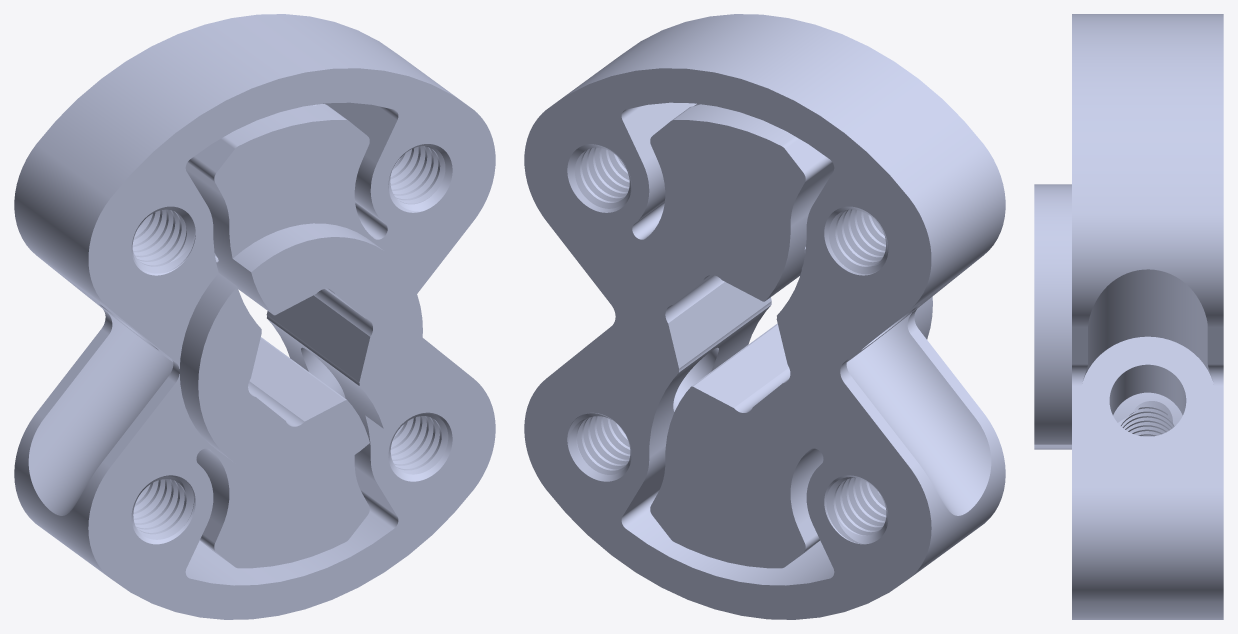
Rendered from Imported1_1.obj.
3 renders of one model, left to right at view 1: azimuth 30°, elevation 25°; view 2: azimuth 150°, elevation 25°; view 3: azimuth 270°, elevation 25°, orthographic. The views are drawn at different scales.
Parts seen in each view (by area): view 1: mesh2296, mesh2100, mesh1942, mesh1965, mesh1927, mesh1951, mesh1943, mesh1880, mesh1946, mesh1921, mesh1963, mesh2207 (+19 smaller); view 2: mesh2210, mesh1942, mesh1951, mesh1943, mesh1880, mesh1946, mesh1921, mesh1963, mesh2266, mesh2206, mesh1918, mesh2317 (+13 smaller); view 3: mesh1942, mesh1932, mesh1935, mesh1929, mesh1941, mesh1938, mesh1944, mesh1945, mesh1940, mesh1939, mesh1930, mesh1931 (+6 smaller).
Boxes of the visible parts, left/top/right/bottom form: mesh2296: left=88, top=68, right=495, bottom=368; mesh2100: left=88, top=338, right=495, bottom=619; mesh1942: left=36, top=14, right=467, bottom=198; mesh1965: left=198, top=287, right=369, bottom=478; mesh1927: left=251, top=237, right=422, bottom=428; mesh1951: left=28, top=313, right=173, bottom=515; mesh1943: left=14, top=144, right=109, bottom=308; mesh1880: left=185, top=511, right=393, bottom=585; mesh1946: left=14, top=413, right=110, bottom=576; mesh1921: left=266, top=295, right=370, bottom=381; mesh1963: left=249, top=338, right=344, bottom=421; mesh2207: left=133, top=475, right=193, bottom=539; mesh2210: left=524, top=68, right=931, bottom=619; mesh1942: left=552, top=14, right=983, bottom=198; mesh1951: left=846, top=313, right=991, bottom=515; mesh1943: left=910, top=144, right=1005, bottom=308; mesh1880: left=626, top=511, right=834, bottom=585; mesh1946: left=909, top=413, right=1005, bottom=576; mesh1921: left=668, top=282, right=771, bottom=368; mesh1963: left=693, top=324, right=788, bottom=407; mesh2266: left=829, top=209, right=888, bottom=274; mesh2206: left=826, top=477, right=886, bottom=544; mesh1918: left=649, top=305, right=770, bottom=453; mesh2317: left=575, top=144, right=630, bottom=208; mesh1942: left=1072, top=14, right=1223, bottom=213; mesh1932: left=1072, top=336, right=1223, bottom=487; mesh1935: left=1072, top=488, right=1223, bottom=555; mesh1929: left=1034, top=184, right=1071, bottom=444; mesh1941: left=1072, top=213, right=1223, bottom=281; mesh1938: left=1083, top=269, right=1212, bottom=380; mesh1944: left=1072, top=556, right=1223, bottom=601; mesh1945: left=1072, top=602, right=1223, bottom=619; mesh1940: left=1183, top=281, right=1223, bottom=326; mesh1939: left=1072, top=281, right=1112, bottom=326; mesh1930: left=1109, top=364, right=1147, bottom=414; mesh1931: left=1148, top=364, right=1186, bottom=415.
Size of the model in its own units: 0.0254 by 0.032 by 0.01.
